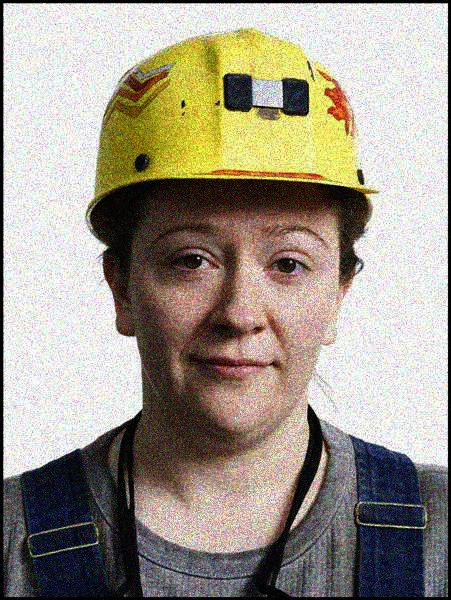helmet: (81, 23, 379, 438)
